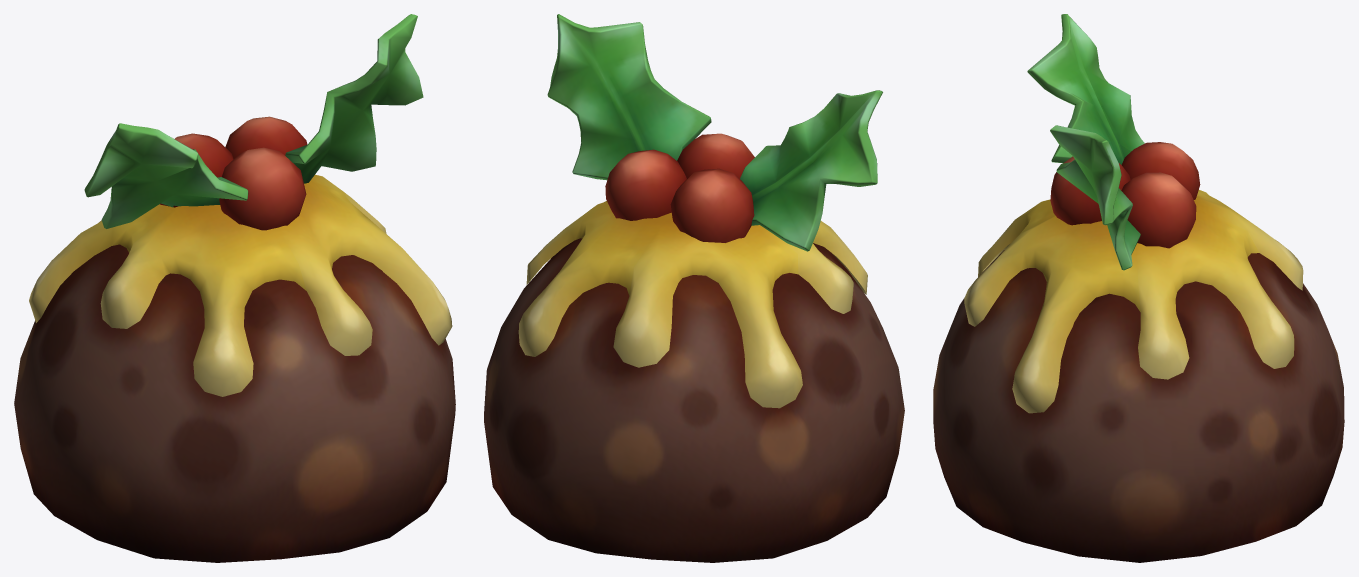
The model's file is m_recipe_ChristmasPudding_01.fbx.
3 renders of one model, left to right at view 1: azimuth 30°, elevation 25°; view 2: azimuth 150°, elevation 25°; view 3: azimuth 270°, elevation 25°, orthographic. The views are drawn at different scales.
Parts seen in each view (by area): view 1: m_recipe_ChristmasPudding_01_0; view 2: m_recipe_ChristmasPudding_01_0; view 3: m_recipe_ChristmasPudding_01_0.
Part boxes in pixels (x1,y1,x2,y2): m_recipe_ChristmasPudding_01_0: (14, 14, 455, 562); m_recipe_ChristmasPudding_01_0: (484, 14, 904, 562); m_recipe_ChristmasPudding_01_0: (933, 14, 1344, 562).
Bounding box in the file's own units: 0.6944 × 0.7653 × 0.6893.
Materials: 1 (1 with a texture image).
